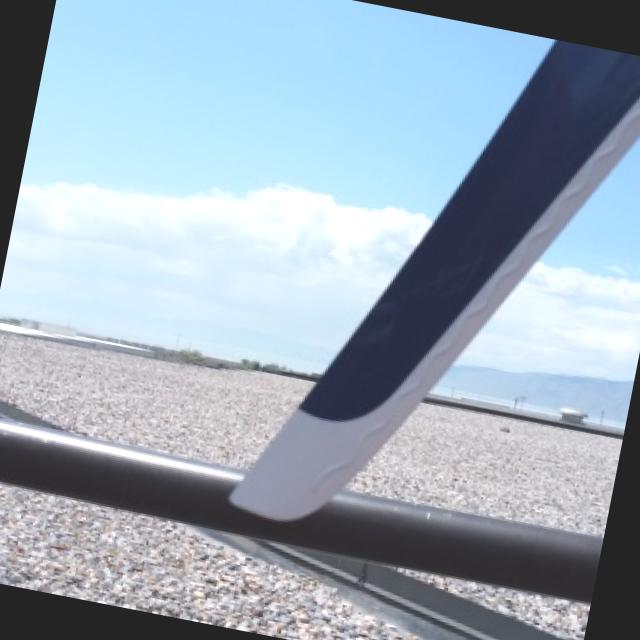healthy: (228, 43, 640, 519), (0, 525, 196, 602)
